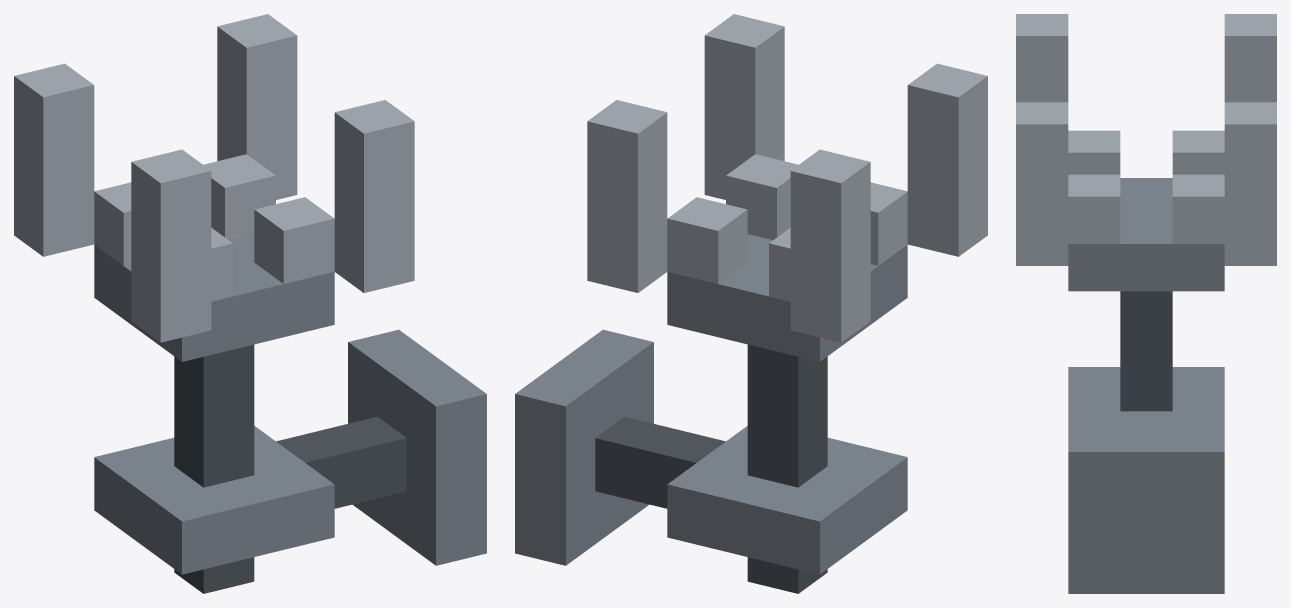
Rendered from torch no fire.obj.
3 views of the same model, side by side, from view 1: azimuth 30°, elevation 25°; view 2: azimuth 150°, elevation 25°; view 3: azimuth 270°, elevation 25° (orthographic). The views are drawn at different scales.
Size of the model in its own units: 0.7 by 0.9 by 0.5.
Materials: 1 (1 with a texture image).
